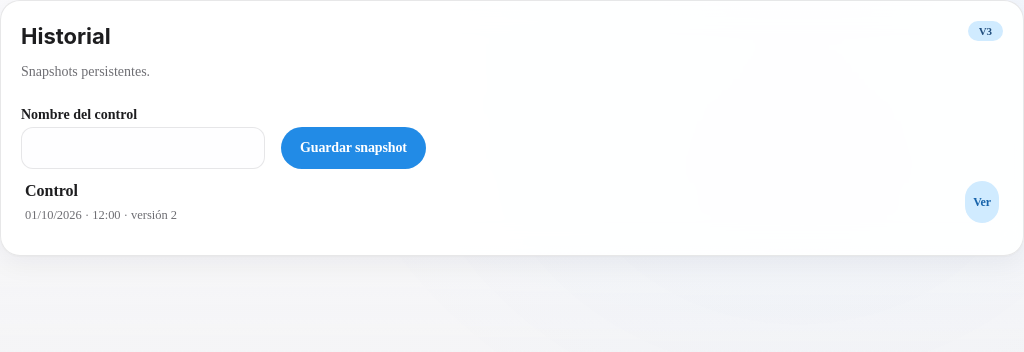
Test: OdontogramHistory › muestra el error si no se pudo guardar el snapshot
Step 1. Click the button "Guardar snapshot" → (353,148), box [281,127,426,169]
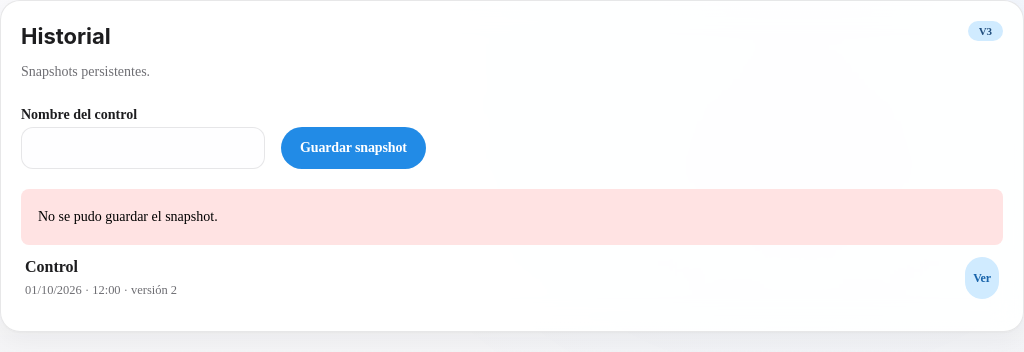
Expected: the text "No se pudo guardar el snapshot." is shown, [38,209,218,224]
